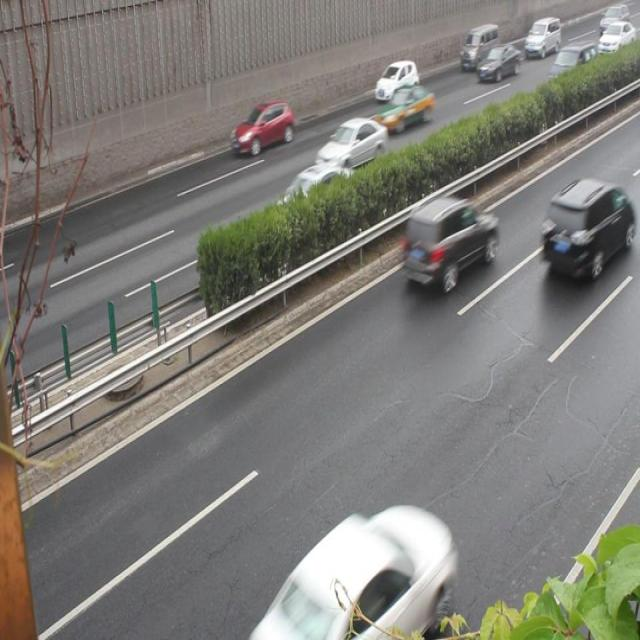car: (269, 508, 455, 640), (404, 194, 496, 288), (542, 180, 627, 276), (272, 162, 355, 234), (312, 116, 387, 173), (232, 100, 294, 158), (373, 86, 431, 136), (374, 61, 418, 104), (475, 45, 519, 85)
truck: (546, 41, 598, 95), (460, 24, 499, 74)
